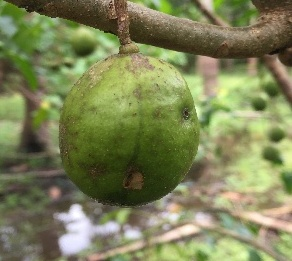Coc: (41, 43, 211, 219)
